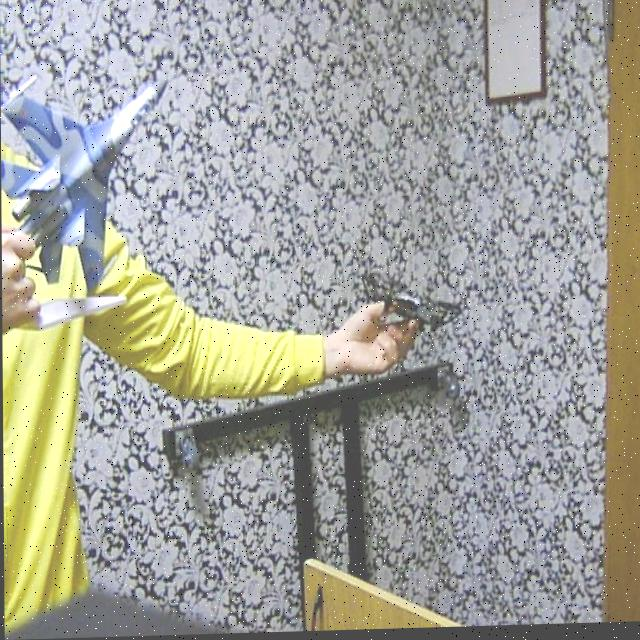drone: (358, 238, 470, 347)
